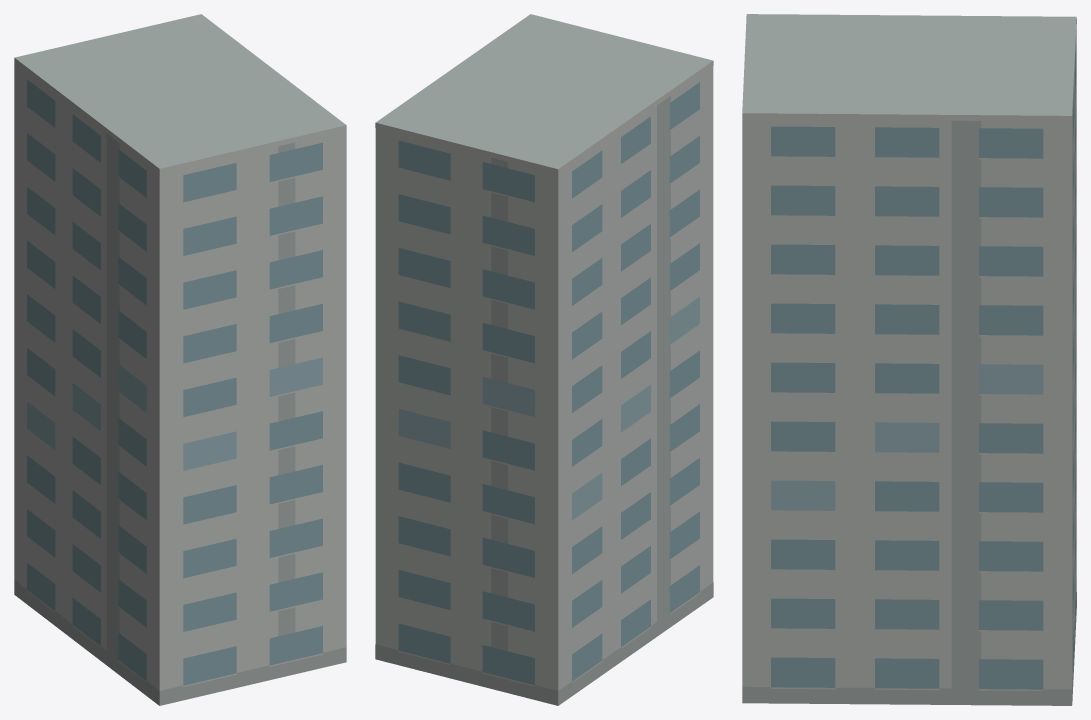
The model's file is residential-0f18cd3c-1481-441b-a754-defd9b7f41fd.glb.
The picture shows the model from 3 angles, left to right: view 1: azimuth 30°, elevation 25°; view 2: azimuth 150°, elevation 25°; view 3: azimuth 270°, elevation 25°; orthographic projection. The views are drawn at different scales.
Parts seen in each view (by area): view 1: residential-0f18cd3c-1481-441b-a754-defd9b7f41fd.tmp; view 2: residential-0f18cd3c-1481-441b-a754-defd9b7f41fd.tmp; view 3: residential-0f18cd3c-1481-441b-a754-defd9b7f41fd.tmp.
Part boxes in pixels (x1,y1,x2,y2): residential-0f18cd3c-1481-441b-a754-defd9b7f41fd.tmp: (14,14,346,705); residential-0f18cd3c-1481-441b-a754-defd9b7f41fd.tmp: (375,14,713,705); residential-0f18cd3c-1481-441b-a754-defd9b7f41fd.tmp: (742,14,1076,705).
Size of the model in its own units: 9.27 by 25 by 12.86.
